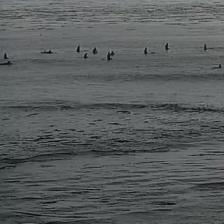surfer: (2, 61, 12, 66), (212, 65, 222, 70), (106, 52, 112, 60), (41, 50, 52, 54), (92, 47, 98, 54), (3, 53, 8, 60), (164, 43, 169, 50), (83, 53, 88, 59), (204, 43, 208, 50), (110, 50, 115, 55), (144, 48, 148, 54), (77, 46, 80, 52)
